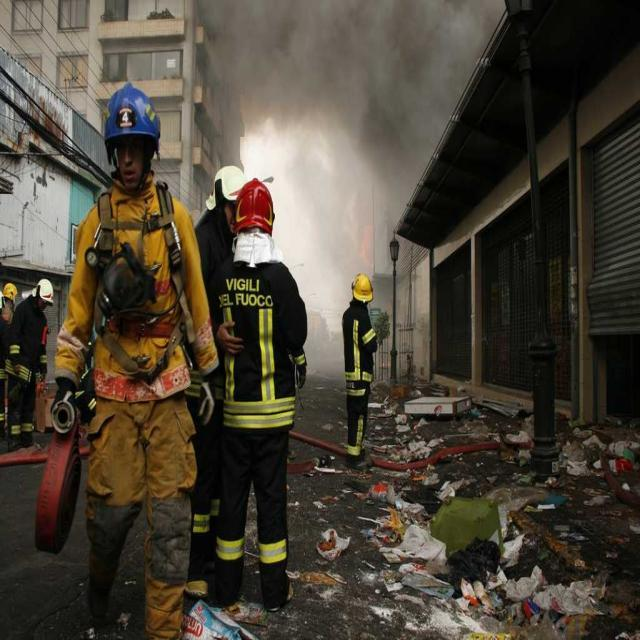Smoke: (279, 6, 462, 102)
